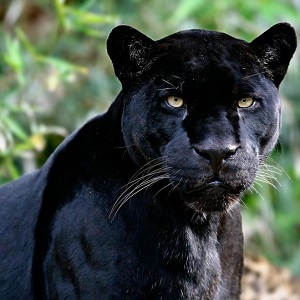panther: (1, 21, 296, 300)
